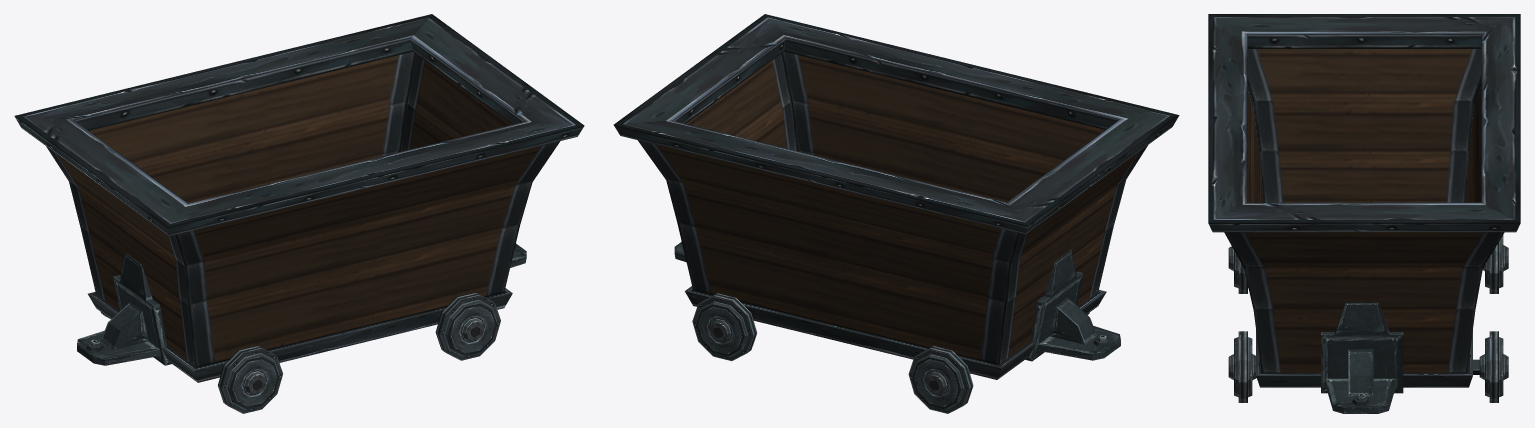
File: cart1.FBX
The picture shows the model from 3 angles, left to right: view 1: azimuth 30°, elevation 25°; view 2: azimuth 150°, elevation 25°; view 3: azimuth 270°, elevation 25°; orthographic projection. The views are drawn at different scales.
Visible parts, largest first — view 1: cart1, cart1_w3, cart1_w1; view 2: cart1, cart1_w2, cart1_w4; view 3: cart1, cart1_w4, cart1_w3, cart1_w2, cart1_w1.
Boxes of the visible parts, box(x1,y1,x2,y2) form: cart1: box(14, 14, 584, 382); cart1_w3: box(435, 292, 500, 360); cart1_w1: box(218, 345, 282, 413); cart1: box(613, 14, 1179, 379); cart1_w2: box(908, 346, 973, 413); cart1_w4: box(692, 293, 756, 360); cart1: box(1208, 14, 1520, 413); cart1_w4: box(1479, 331, 1508, 402); cart1_w3: box(1228, 331, 1256, 402); cart1_w2: box(1482, 235, 1508, 293); cart1_w1: box(1228, 246, 1248, 293).
Size of the model in its own units: 168 by 81.6 by 103.
